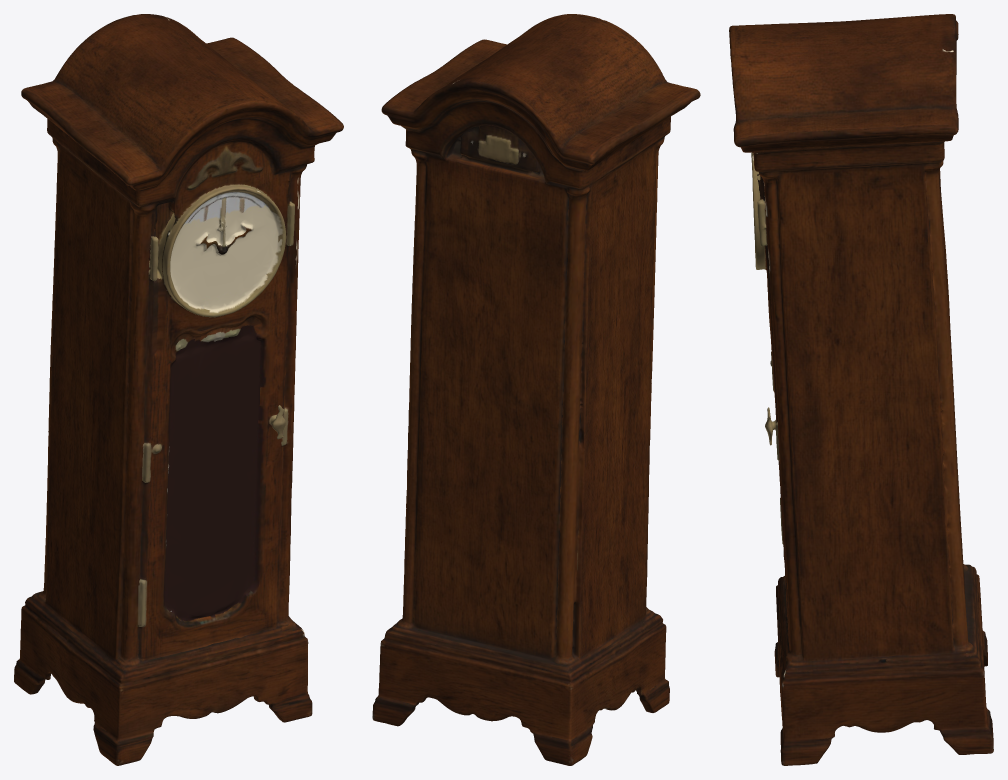
Rendered from grandfather-clock-quest.glb.
The picture shows the model from 3 angles, left to right: view 1: azimuth 30°, elevation 25°; view 2: azimuth 150°, elevation 25°; view 3: azimuth 270°, elevation 25°; orthographic projection. The views are drawn at different scales.
Visible parts, largest first — view 1: victorian_cabinet; view 2: victorian_cabinet; view 3: victorian_cabinet.
Boxes of the visible parts, <box> form: victorian_cabinet: <box>14,14,343,765</box>; victorian_cabinet: <box>372,14,700,765</box>; victorian_cabinet: <box>729,14,993,765</box>.
Size of the model in its own units: 0.6639 by 1.9 by 0.659.
1 material, 1 textured.
